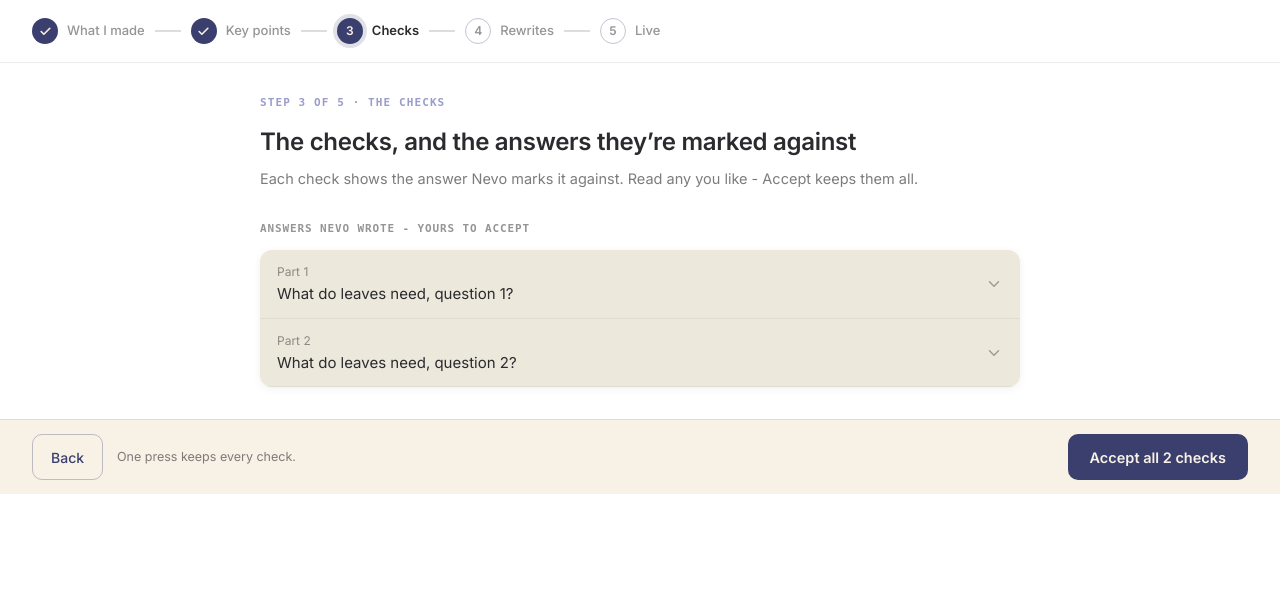
Test: the one press › re-reads and says so when the lesson changed underneath
Expected: the navigation bar named "Lesson review steps" is shown, [0,0,1279,63]
Click the button "Accept all 2 checks".
click(1158, 458)  # box [1068,434,1248,480]
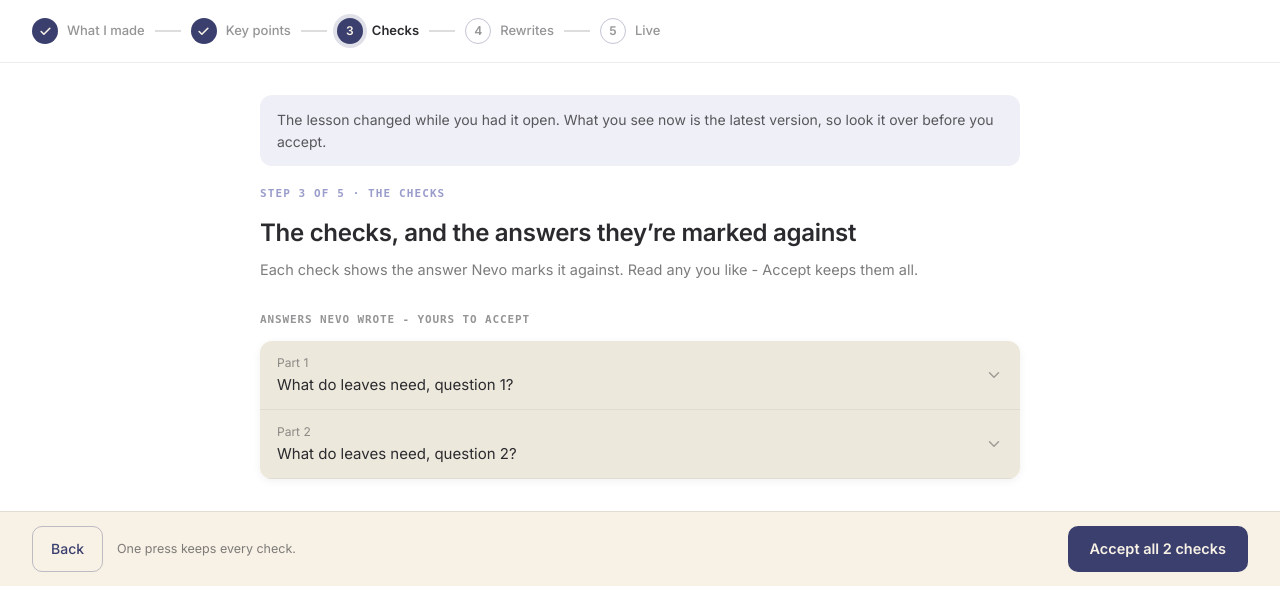
Now the text "The lesson changed while you had it open" is shown, box [277,111,994,150]
